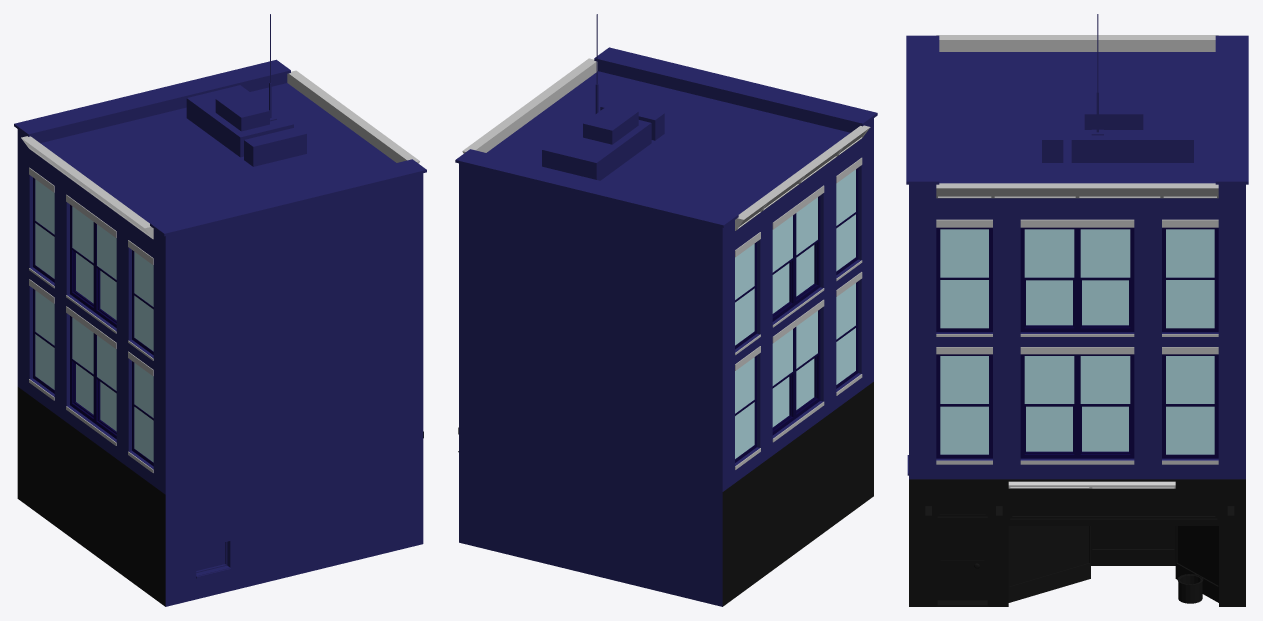
The model's file is WaterPump.FBX.
3 views of the same model, side by side, from view 1: azimuth 30°, elevation 25°; view 2: azimuth 150°, elevation 25°; view 3: azimuth 270°, elevation 25° (orthographic). The views are drawn at different scales.
Parts seen in each view (by area): view 1: Plane, Plane.005, Plane.002, Plane.001, Plane.006, Plane.003; view 2: Plane, Plane.005, Plane.002, Plane.001, Plane.006, Plane.003; view 3: Plane, Plane.002, Plane.005, Plane.001, Plane.006, Plane.003, Plane.007.
Boxes of the visible parts, bbox=[...] form: Plane: bbox=[14, 14, 426, 606]; Plane.005: bbox=[17, 387, 423, 606]; Plane.002: bbox=[35, 179, 153, 462]; Plane.001: bbox=[33, 177, 153, 466]; Plane.006: bbox=[21, 70, 419, 239]; Plane.003: bbox=[29, 167, 153, 472]; Plane: bbox=[455, 14, 877, 606]; Plane.005: bbox=[458, 382, 873, 606]; Plane.002: bbox=[735, 169, 855, 458]; Plane.001: bbox=[735, 168, 858, 462]; Plane.006: bbox=[462, 58, 870, 230]; Plane.003: bbox=[735, 157, 862, 469]; Plane: bbox=[906, 14, 1248, 479]; Plane.002: bbox=[940, 229, 1214, 454]; Plane.005: bbox=[909, 479, 1245, 606]; Plane.001: bbox=[936, 227, 1218, 458]; Plane.006: bbox=[936, 35, 1218, 198]; Plane.003: bbox=[936, 219, 1218, 464]; Plane.007: bbox=[1008, 481, 1175, 488].
Bounding box in the file's own units: 593 × 1000 × 560.
